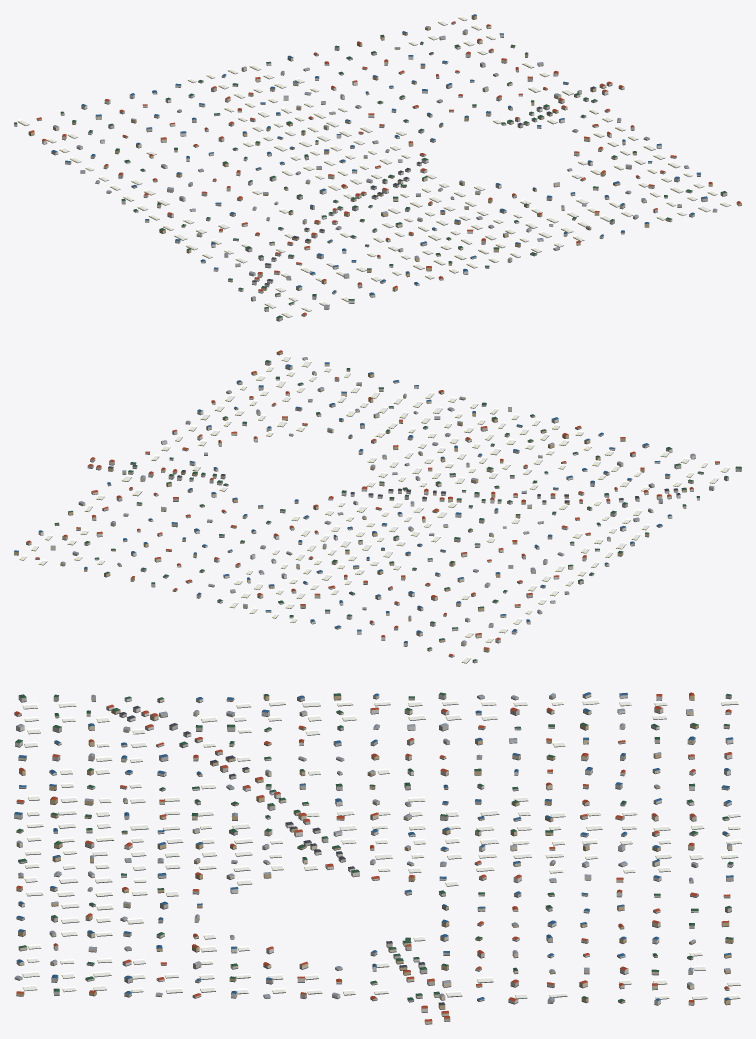
File: buildings_T_W07_S02.glb
3 views of the same model, one above another, from view 1: azimuth 30°, elevation 25°; view 2: azimuth 150°, elevation 25°; view 3: azimuth 270°, elevation 25° (orthographic). The views are drawn at different scales.
Visible parts, largest first — view 1: T_W07_S02_roofs_agri_greenhouse_arch, T_W07_S02_slope_seating_foundations, T_W07_S02_walls_wall_pastel_sand_gray, T_W07_S02_walls_wall_dalat_cream_stucco, T_W07_S02_walls_wall_modern_warm_white, T_W07_S02_walls_wall_french_ochre_villa, T_W07_S02_roofs_roof_terracotta_gable, T_W07_S02_roofs_roof_pine_green_hip, T_W07_S02_roofs_roof_highland_blue_gable, T_W07_S02_roofs_roof_zinc_silver_gable; view 2: T_W07_S02_slope_seating_foundations, T_W07_S02_roofs_agri_greenhouse_arch, T_W07_S02_walls_wall_pastel_sand_gray, T_W07_S02_walls_wall_dalat_cream_stucco, T_W07_S02_walls_wall_modern_warm_white, T_W07_S02_walls_wall_french_ochre_villa, T_W07_S02_roofs_roof_terracotta_gable, T_W07_S02_roofs_roof_pine_green_hip, T_W07_S02_roofs_roof_highland_blue_gable, T_W07_S02_roofs_roof_zinc_silver_gable; view 3: T_W07_S02_roofs_agri_greenhouse_arch, T_W07_S02_slope_seating_foundations, T_W07_S02_walls_wall_pastel_sand_gray, T_W07_S02_walls_wall_dalat_cream_stucco, T_W07_S02_walls_wall_modern_warm_white, T_W07_S02_walls_wall_french_ochre_villa, T_W07_S02_roofs_roof_terracotta_gable, T_W07_S02_roofs_roof_pine_green_hip, T_W07_S02_roofs_roof_highland_blue_gable, T_W07_S02_roofs_roof_zinc_silver_gable.
Boxes of the visible parts, box(x1,y1,x2,y2) form: T_W07_S02_roofs_agri_greenhouse_arch: box(17, 15, 731, 317); T_W07_S02_slope_seating_foundations: box(14, 17, 741, 321); T_W07_S02_walls_wall_pastel_sand_gray: box(14, 22, 727, 321); T_W07_S02_walls_wall_dalat_cream_stucco: box(53, 26, 717, 304); T_W07_S02_walls_wall_modern_warm_white: box(36, 34, 665, 309); T_W07_S02_walls_wall_french_ochre_villa: box(28, 15, 741, 291); T_W07_S02_roofs_roof_terracotta_gable: box(29, 21, 741, 315); T_W07_S02_roofs_roof_pine_green_hip: box(14, 34, 726, 318); T_W07_S02_roofs_roof_highland_blue_gable: box(51, 14, 707, 295); T_W07_S02_roofs_roof_zinc_silver_gable: box(53, 26, 717, 306); T_W07_S02_slope_seating_foundations: box(14, 353, 741, 663); T_W07_S02_roofs_agri_greenhouse_arch: box(19, 355, 729, 662); T_W07_S02_walls_wall_pastel_sand_gray: box(35, 361, 741, 662); T_W07_S02_walls_wall_dalat_cream_stucco: box(26, 358, 703, 650); T_W07_S02_walls_wall_modern_warm_white: box(38, 386, 699, 657); T_W07_S02_walls_wall_french_ochre_villa: box(14, 351, 686, 651); T_W07_S02_roofs_roof_terracotta_gable: box(26, 350, 719, 656); T_W07_S02_roofs_roof_pine_green_hip: box(54, 360, 741, 660); T_W07_S02_roofs_roof_highland_blue_gable: box(14, 362, 671, 643); T_W07_S02_roofs_roof_zinc_silver_gable: box(50, 357, 713, 642); T_W07_S02_roofs_agri_greenhouse_arch: box(22, 699, 741, 999); T_W07_S02_slope_seating_foundations: box(14, 696, 741, 1024); T_W07_S02_walls_wall_pastel_sand_gray: box(14, 694, 733, 1021); T_W07_S02_walls_wall_dalat_cream_stucco: box(14, 694, 732, 1023); T_W07_S02_walls_wall_modern_warm_white: box(14, 694, 733, 1012); T_W07_S02_walls_wall_french_ochre_villa: box(16, 695, 733, 1009); T_W07_S02_roofs_roof_terracotta_gable: box(14, 692, 732, 1021); T_W07_S02_roofs_roof_pine_green_hip: box(15, 692, 733, 1001); T_W07_S02_roofs_roof_highland_blue_gable: box(14, 692, 733, 1000); T_W07_S02_roofs_roof_zinc_silver_gable: box(15, 693, 731, 1000).
Bounding box in the file's own units: 1855 × 38.83 × 1749.
